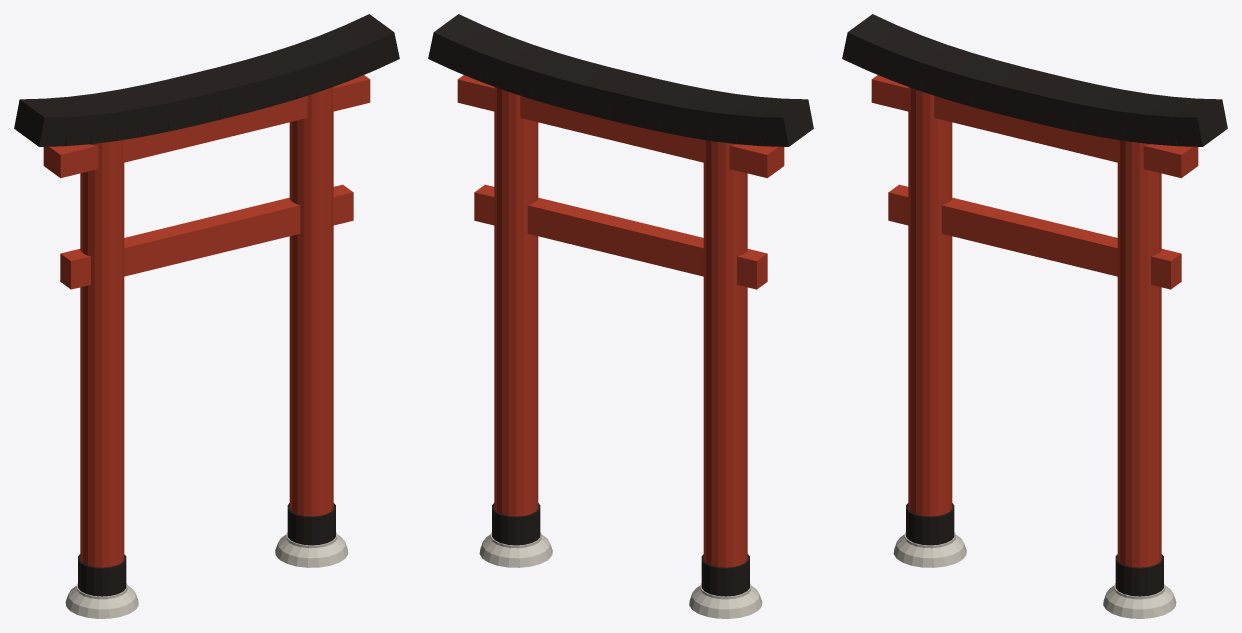
Rendered from Shrine_ToriiSmall.fbx.
The picture shows the model from 3 angles, left to right: view 1: azimuth 30°, elevation 25°; view 2: azimuth 150°, elevation 25°; view 3: azimuth 330°, elevation 25°; orthographic projection.
Visible parts, largest first — view 1: Shrine_ToriiSmall; view 2: Shrine_ToriiSmall; view 3: Shrine_ToriiSmall.
Part boxes in pixels (<box>): Shrine_ToriiSmall: <box>14,14,399,618</box>; Shrine_ToriiSmall: <box>428,14,813,618</box>; Shrine_ToriiSmall: <box>842,14,1227,618</box>.
Size of the model in its own units: 15.84 by 21.49 by 2.8.
